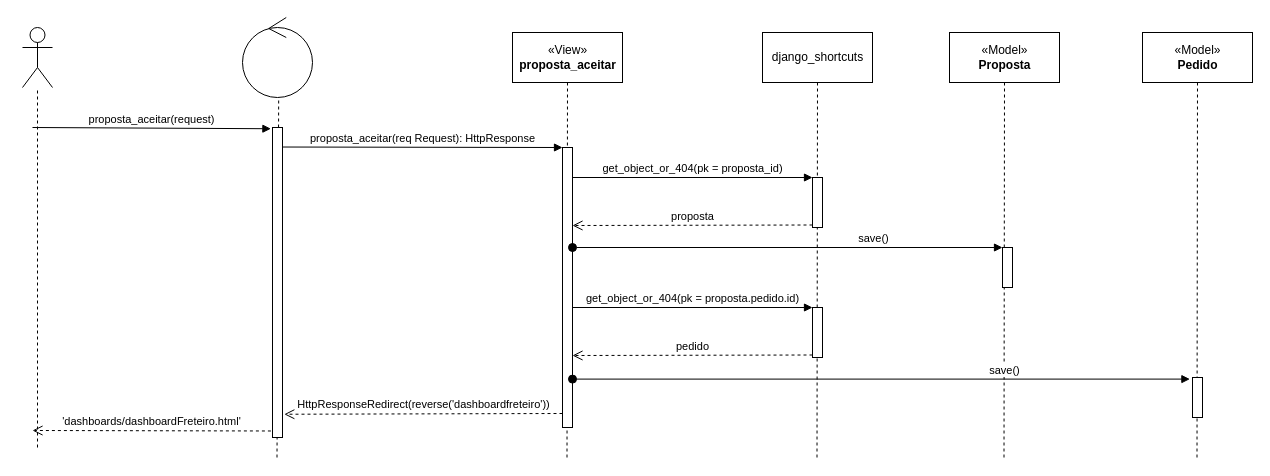
The diagram is 1270 pixels wide and 476 high, and some of its shapes have lost their labels. Each missing label, with the centre of its shape:
Django Control: (277,57)
Freteiro: (37,57)
